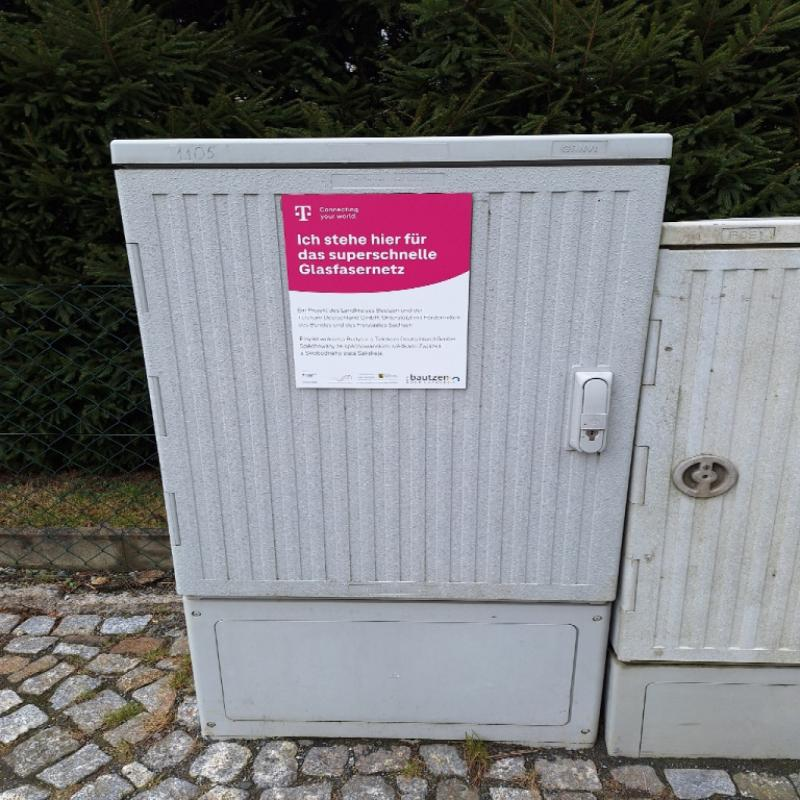NT-Gehause: (118, 139, 668, 746)
Steaker: (282, 192, 472, 387)
